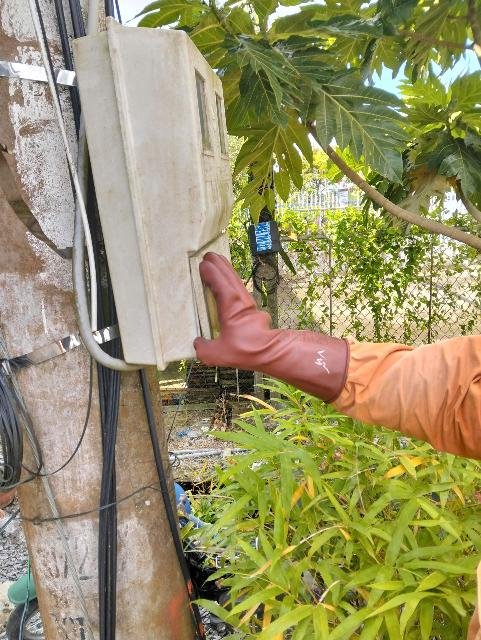gloves: (177, 236, 356, 403)
